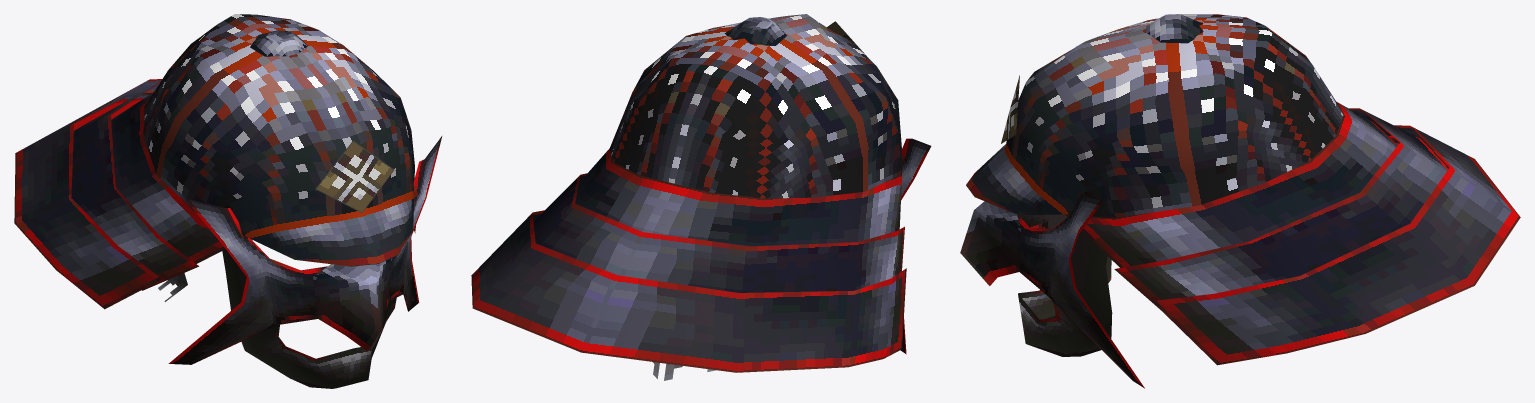
File: m_hair109.glb
3 views of the same model, side by side, from view 1: azimuth 30°, elevation 25°; view 2: azimuth 150°, elevation 25°; view 3: azimuth 270°, elevation 25° (orthographic). The views are drawn at different scales.
Bounding box in the file's own units: 28.1 × 23.81 × 36.77.
Materials: 1 (1 with a texture image).
